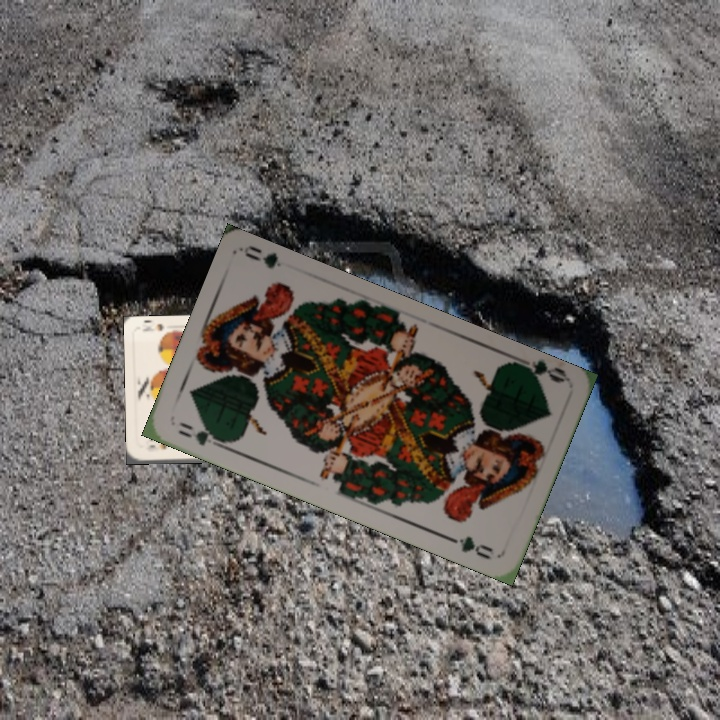GO: (511, 353, 569, 388), (174, 417, 230, 452)
S10: (142, 439, 171, 455)
